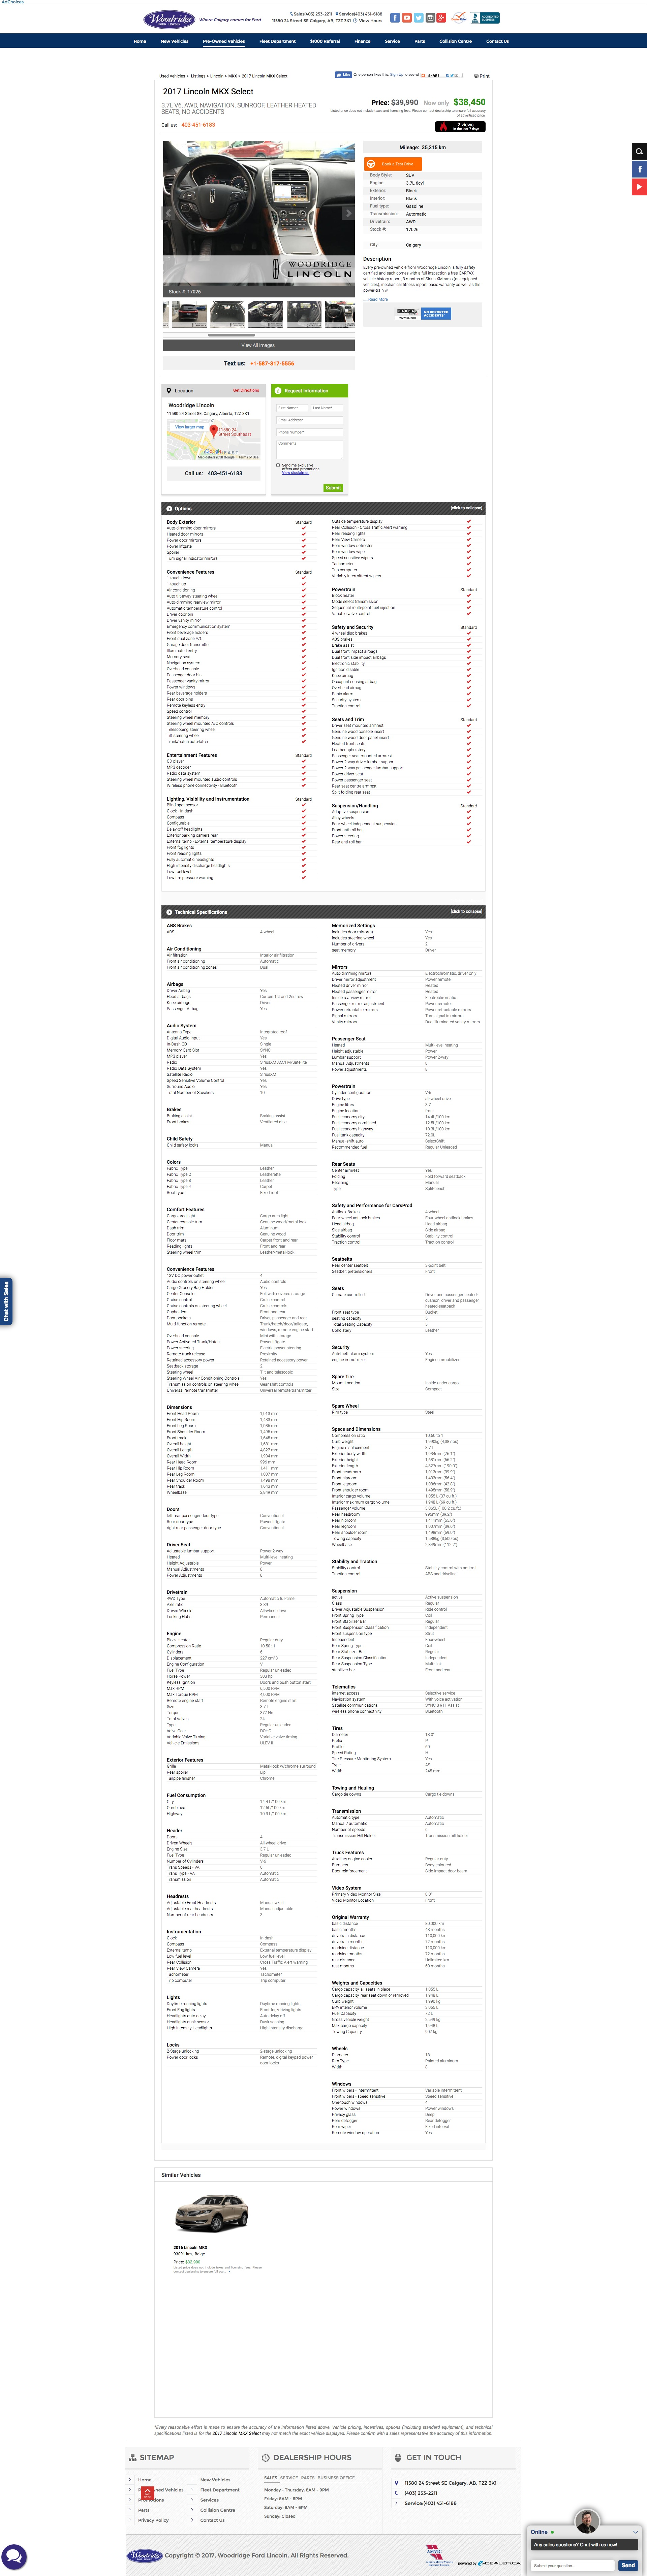car: (346, 210, 351, 217)
